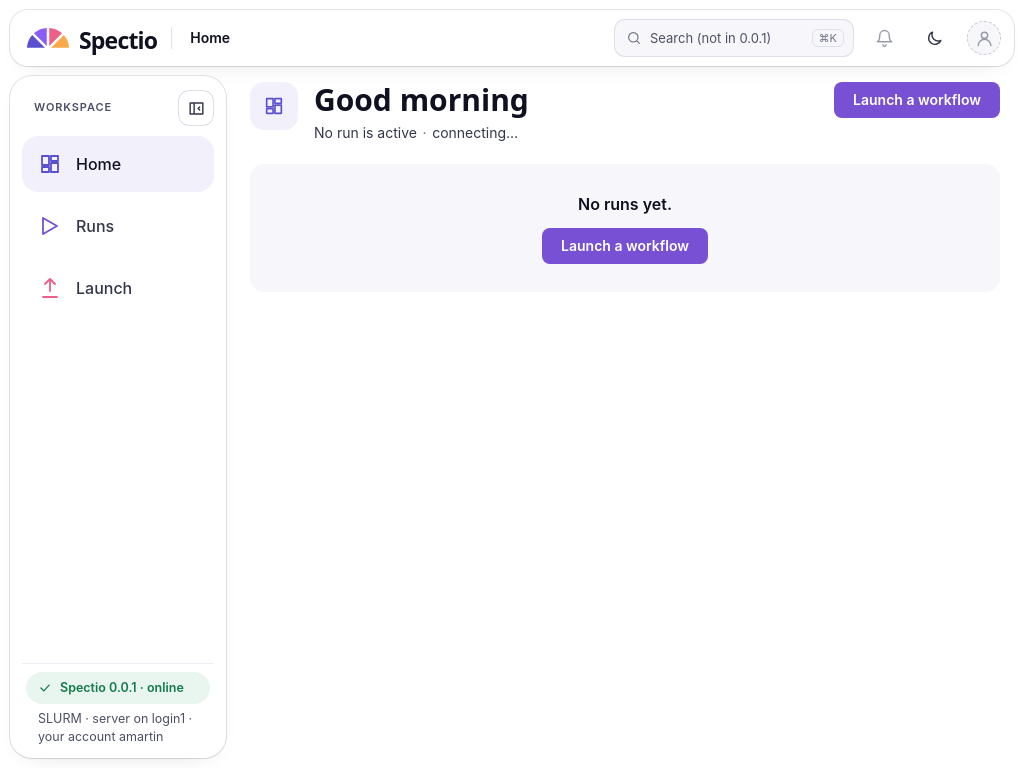
Test: sidebar folds with a button[aria-expanded]
The image size is (1024, 768).
Expected: the text "Workspace" is shown, x1=34 y1=100 x2=112 y2=116
Step 1. Click the button named "Fold the sidebar" → (196, 108), box x1=178 y1=90 x2=214 y2=126
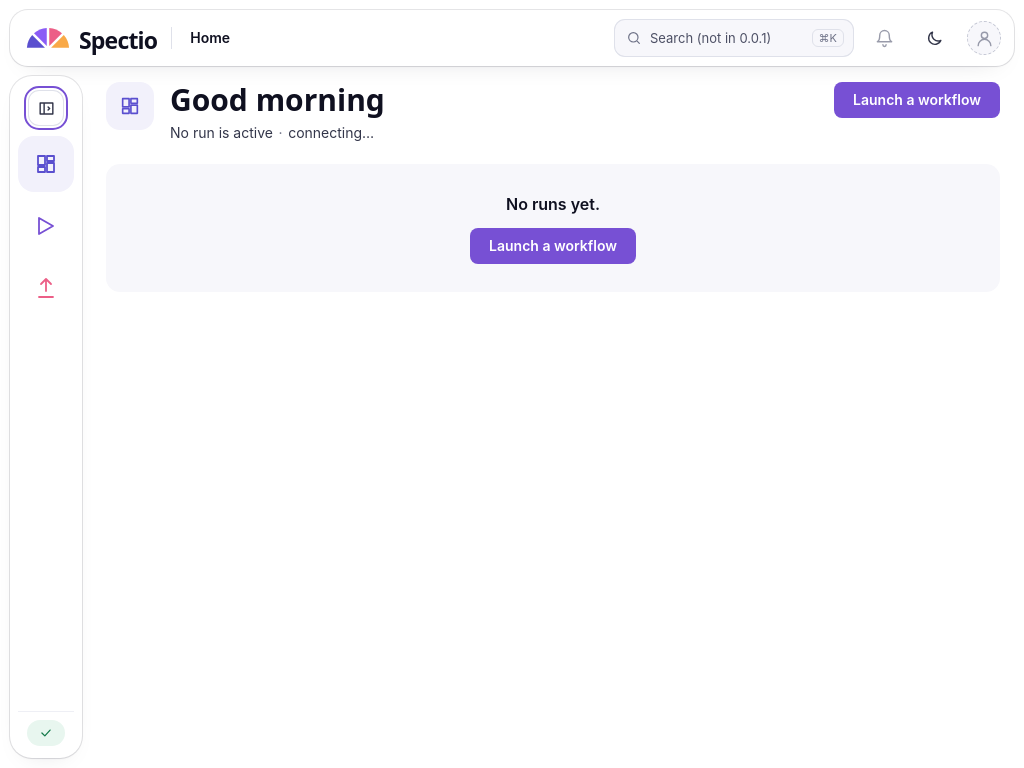
Expected: the 1st link named "Home" is shown, x1=18 y1=136 x2=74 y2=192
Now the button named "Fold the sidebar" is collapsed, box x1=28 y1=90 x2=64 y2=126
Now the text "Workspace" is gone
